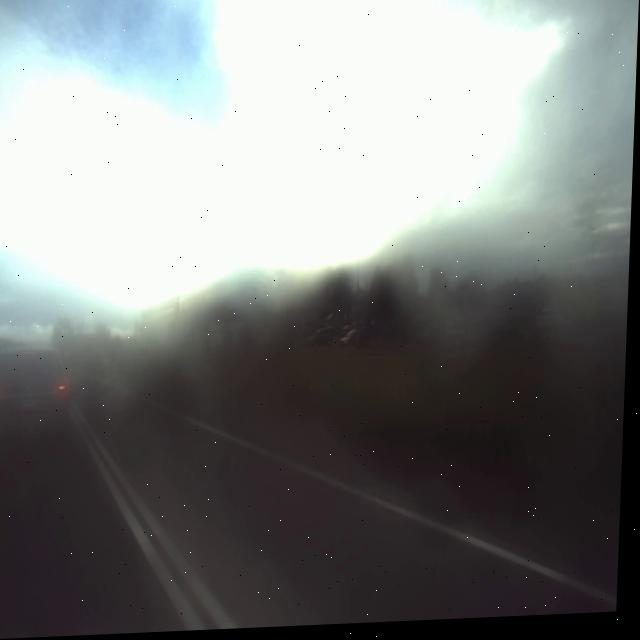car: (0, 332, 82, 466)
